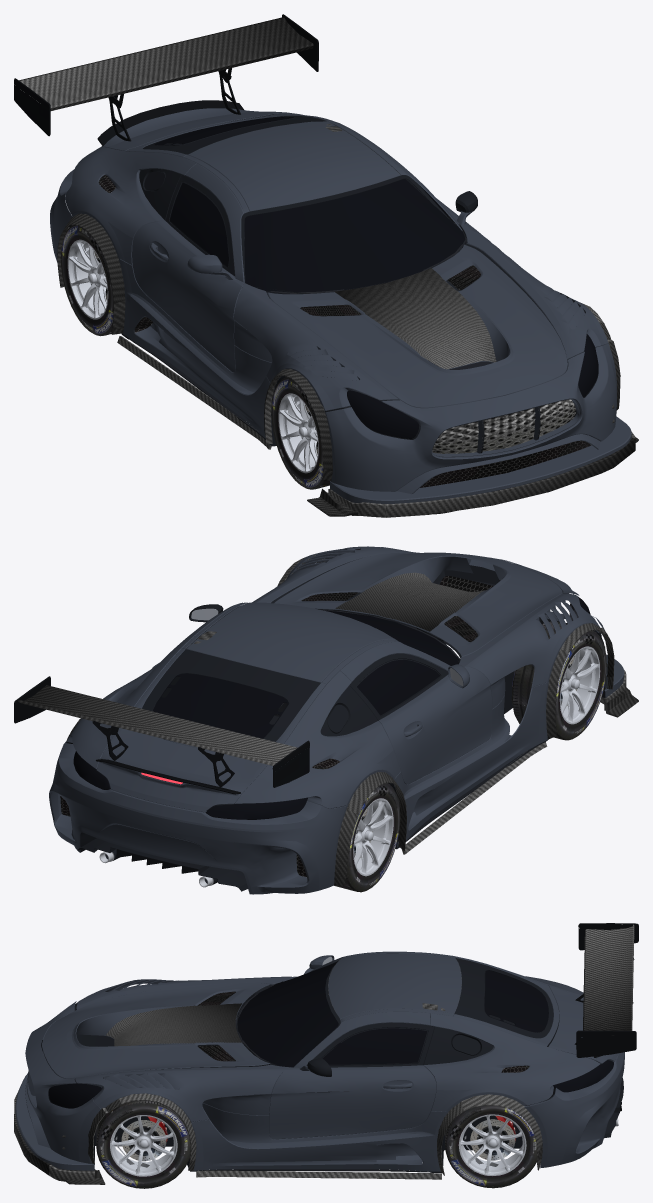
Rendered from car.glb.
3 views of the same model, one above another, from view 1: azimuth 30°, elevation 25°; view 2: azimuth 150°, elevation 25°; view 3: azimuth 270°, elevation 25° (orthographic). The views are drawn at different scales.
Visible parts, largest first — view 1: Body, Spoiler2, Hood, Hood1, Skirt2, WheelRR, WheelFR, FrontBumper2, Skirt, Spoiler1, FrontBumper; view 2: Body, Hood, Spoiler2, WheelFR, Hood1, Skirt2, WheelRR, Skirt, Spoiler1, FrontBumper; view 3: Body, Hood, Spoiler2, WheelFL, WheelRL, Hood1, Skirt2, Skirt, FrontBumper2.
Part boxes in pixels (box(x1,y1,x2,y2)): Body: box(50, 108, 631, 503); Spoiler2: box(14, 14, 318, 141); Hood: box(188, 121, 494, 369); Hood1: box(325, 124, 496, 369); Skirt2: box(57, 213, 620, 480); WheelRR: box(60, 225, 142, 336); WheelFR: box(271, 377, 329, 489); FrontBumper2: box(328, 431, 635, 517); Skirt: box(117, 336, 271, 449); Spoiler1: box(97, 100, 244, 145); FrontBumper: box(307, 404, 638, 516); Body: box(49, 546, 624, 894); Hood: box(187, 590, 485, 681); Spoiler2: box(14, 676, 309, 787); WheelFR: box(511, 621, 606, 740); Hood1: box(194, 572, 494, 643); Skirt2: box(66, 555, 614, 886); WheelRR: box(334, 783, 400, 892); Skirt: box(401, 742, 547, 854); Spoiler1: box(96, 759, 240, 794); FrontBumper: box(600, 646, 638, 717); Body: box(15, 951, 624, 1172); Hood: box(106, 953, 461, 1045); Spoiler2: box(574, 923, 638, 1057); WheelFL: box(96, 1100, 190, 1188); WheelRL: box(445, 1105, 537, 1188); Hood1: box(106, 960, 461, 1046); Skirt2: box(88, 980, 542, 1175); Skirt: box(196, 1170, 441, 1179); FrontBumper2: box(14, 1076, 94, 1181).
Size of the model in its own units: 9.41 by 5.39 by 19.69.
Materials: 16 (6 with a texture image).
